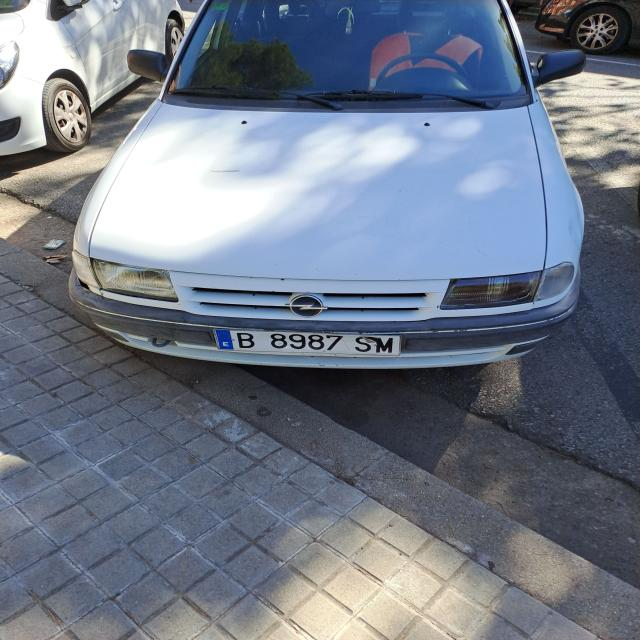license_plate-34Td: (212, 329, 402, 357)
